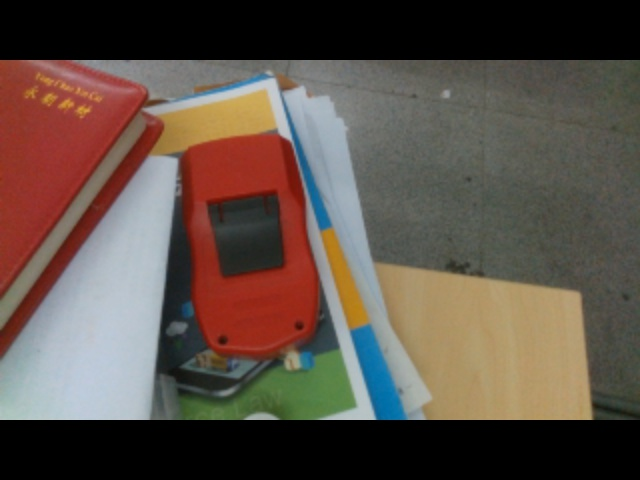Multimeter: (179, 130, 321, 359)
Screw holes: (216, 334, 232, 345), (293, 319, 305, 331)
